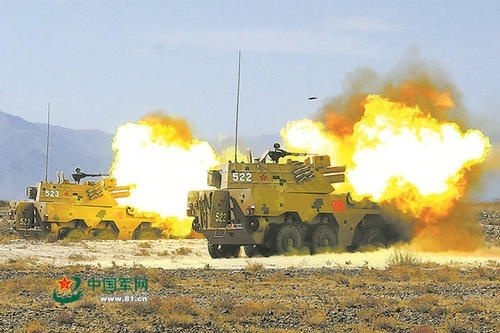fire: (281, 91, 491, 213), (110, 110, 220, 224)
